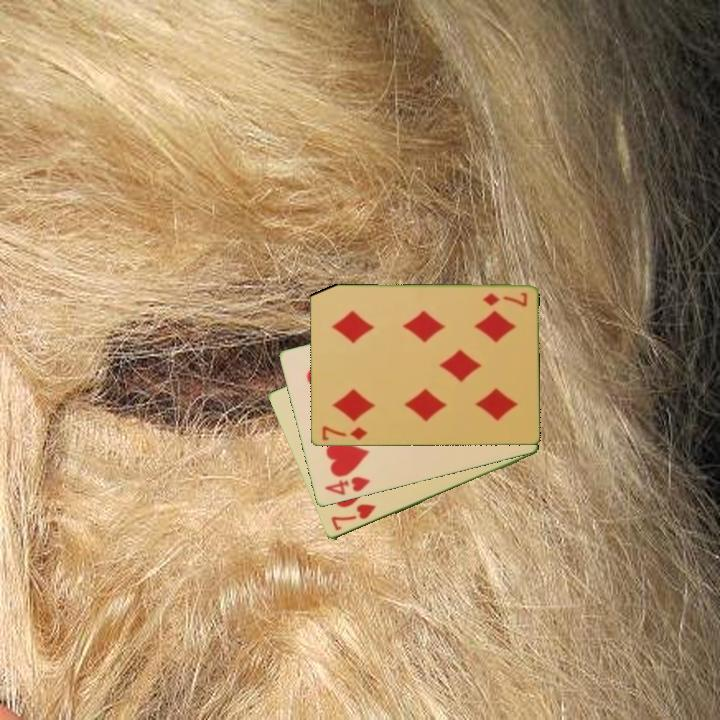4h: (320, 473, 373, 499)
7d: (479, 289, 529, 310), (319, 423, 369, 443)
7h: (327, 500, 379, 534)
